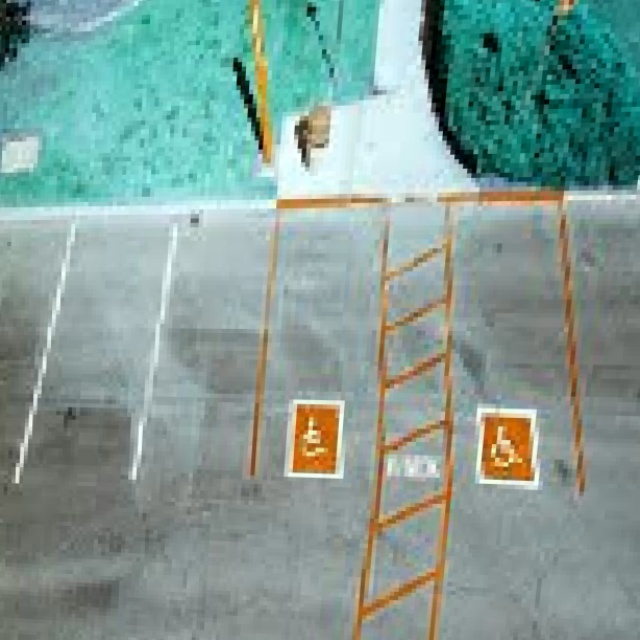ISA: (289, 404, 339, 477), (478, 414, 531, 478)
